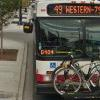Bus: (30, 2, 97, 90)
